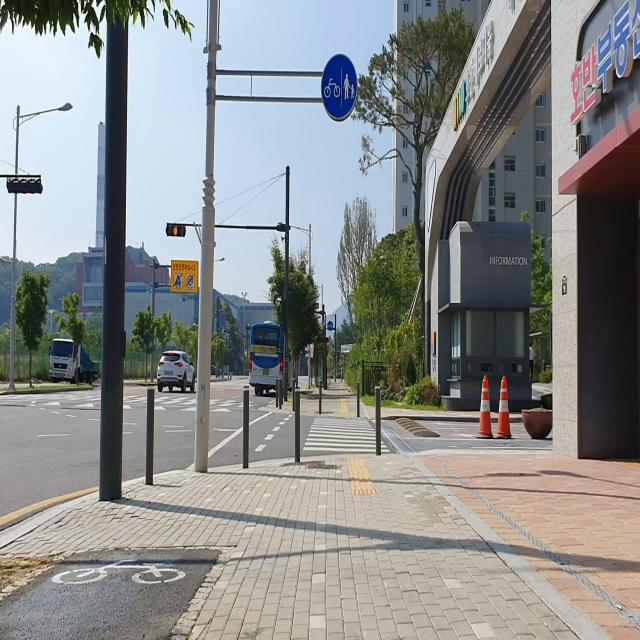횡단보도: (15, 388, 254, 414), (302, 416, 391, 454)
